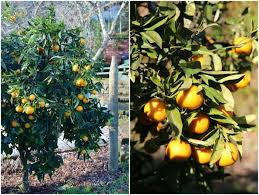orange: (142, 98, 169, 124), (175, 86, 203, 111)
